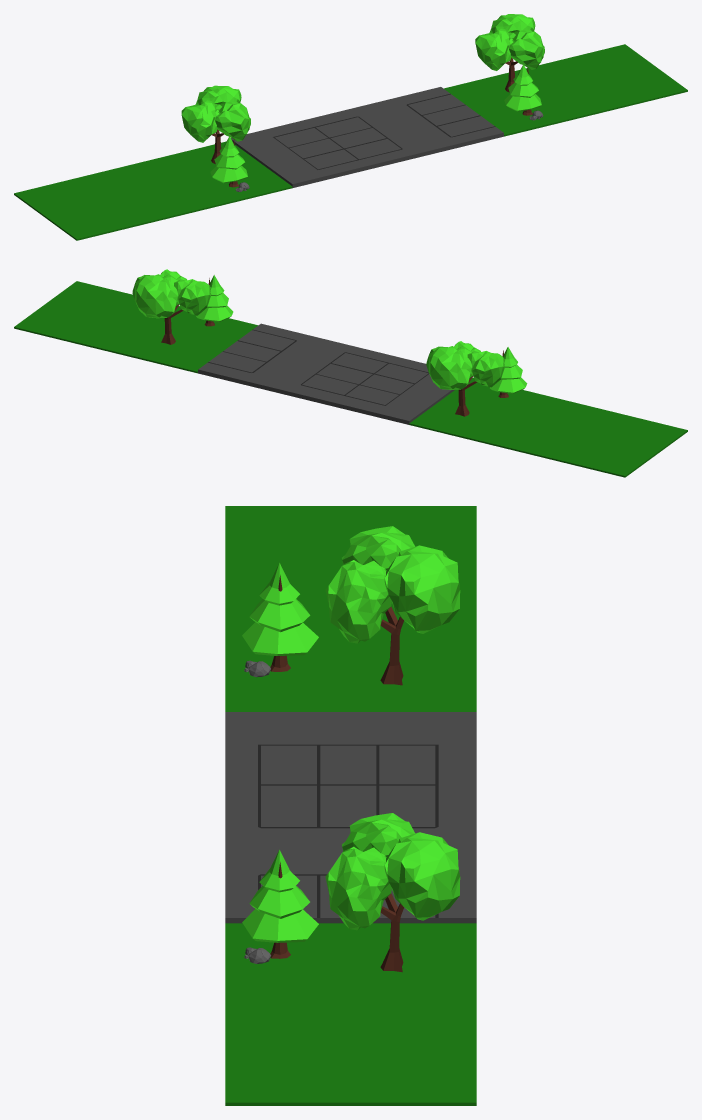
File: DisOtopark.fbx
3 views of the same model, one above another, from view 1: azimuth 30°, elevation 25°; view 2: azimuth 150°, elevation 25°; view 3: azimuth 270°, elevation 25° (orthographic). The views are drawn at different scales.
Visible parts, largest first — view 1: AgaclarVeKayalar.001; view 2: AgaclarVeKayalar.001; view 3: AgaclarVeKayalar.001.
Part boxes in pixels (x1,y1,x2,y2): AgaclarVeKayalar.001: (14,14,687,240); AgaclarVeKayalar.001: (14,269,687,477); AgaclarVeKayalar.001: (225,506,476,1105).
Size of the model in its own units: 13864 by 1552 by 2468.
